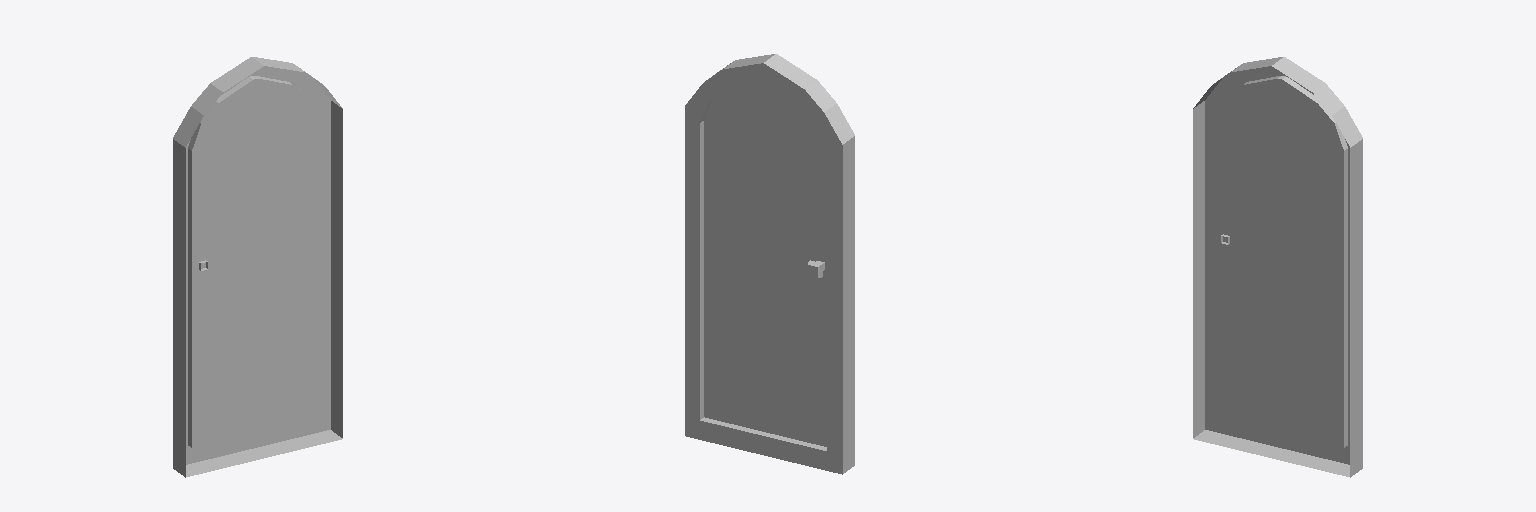
The model's file is Door_Banquet_geo.obj.
3 views of the same model, side by side, from view 1: azimuth 30°, elevation 25°; view 2: azimuth 150°, elevation 25°; view 3: azimuth 330°, elevation 25° (orthographic).
Visible parts, largest first — view 1: pCube23; view 2: pCube23; view 3: pCube23.
Boxes of the visible parts, x1,y1,x2,y2 form: pCube23: [173, 57, 342, 477]; pCube23: [685, 54, 854, 474]; pCube23: [1193, 57, 1362, 477].
Bounding box in the file's own units: 21.8 × 51.76 × 4.05.